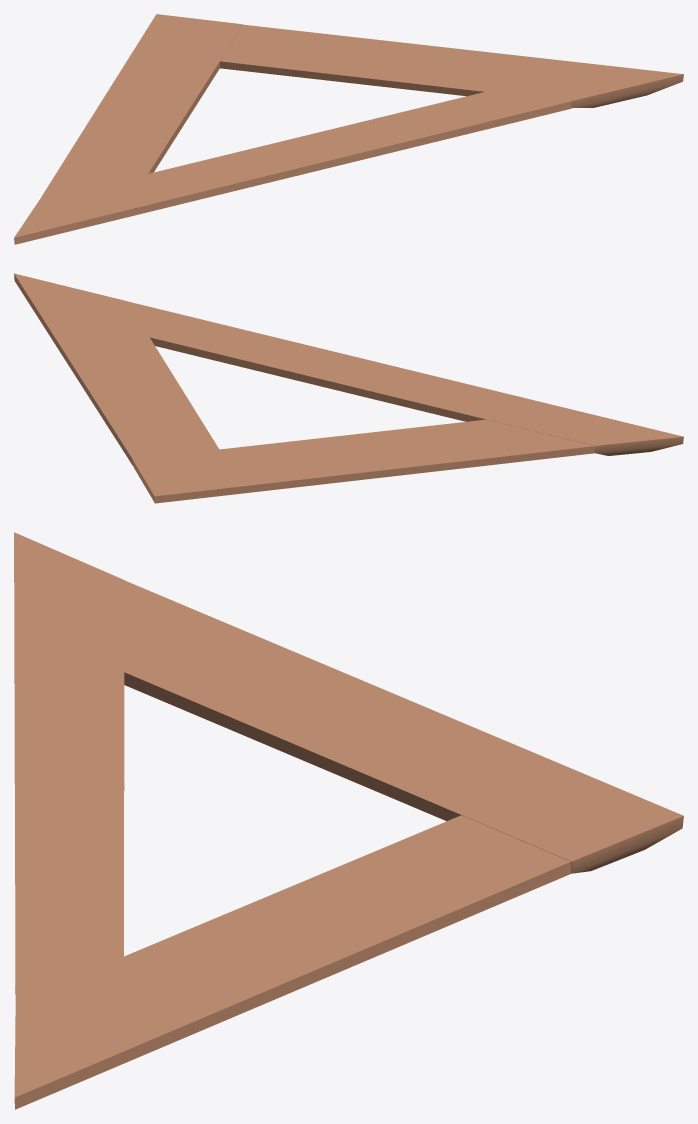
The model's file is rt90_wood_4_pineSplitLogTriFloorSection1.glb.
3 views of the same model, one above another, from view 1: azimuth 30°, elevation 25°; view 2: azimuth 150°, elevation 25°; view 3: azimuth 270°, elevation 25° (orthographic). The views are drawn at different scales.
Parts seen in each view (by area): view 1: Outside; view 2: Outside; view 3: Outside.
Boxes of the visible parts, left/top/right/bottom form: Outside: left=14, top=14, right=683, bottom=244; Outside: left=14, top=273, right=683, bottom=503; Outside: left=14, top=532, right=683, bottom=1109.
Size of the model in its own units: 5.73 by 0.1233 by 2.87.
